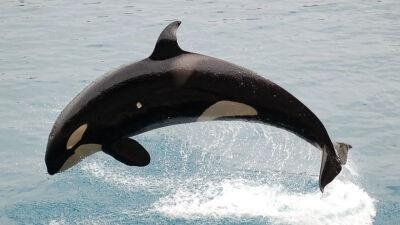fish: (44, 21, 354, 194)
